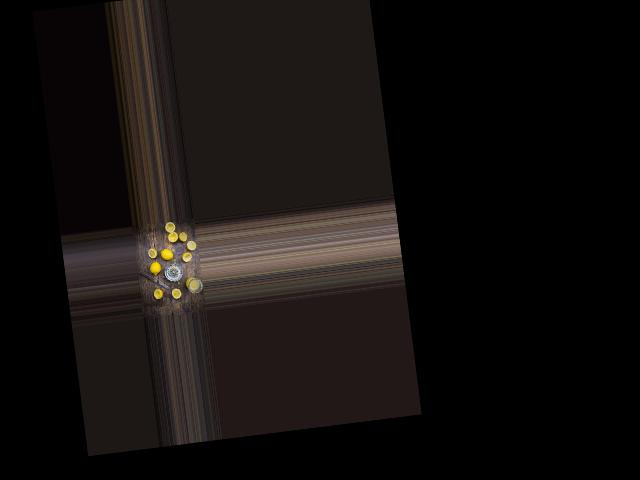lemon: (149, 256, 163, 275)
